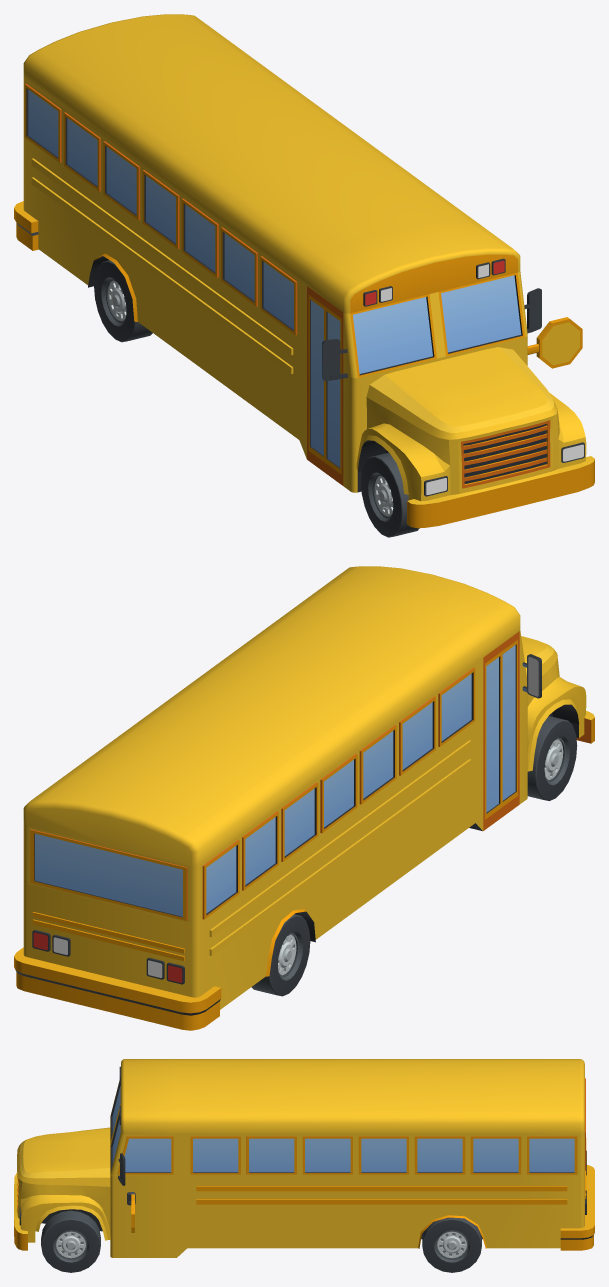
The model's file is America_Bus.fbx.
3 views of the same model, one above another, from view 1: azimuth 30°, elevation 25°; view 2: azimuth 150°, elevation 25°; view 3: azimuth 270°, elevation 25° (orthographic). The views are drawn at different scales.
Visible parts, largest first — view 1: America_Bus_Body, America_Bus_Wheel1, America_Bus_Wheel; view 2: America_Bus_Body, America_Bus_Wheel1, America_Bus_Wheel; view 3: America_Bus_Body, America_Bus_Wheel1, America_Bus_Wheel.
Boxes of the visible parts, <box> form: America_Bus_Body: <box>14,14,594,528</box>; America_Bus_Wheel1: <box>361,452,419,537</box>; America_Bus_Wheel: <box>94,260,152,342</box>; America_Bus_Body: <box>14,566,594,1030</box>; America_Bus_Wheel1: <box>527,716,577,800</box>; America_Bus_Wheel: <box>251,914,310,996</box>; America_Bus_Body: <box>14,1059,594,1257</box>; America_Bus_Wheel1: <box>41,1210,100,1272</box>; America_Bus_Wheel: <box>422,1217,481,1272</box>.
Bounding box in the file's own units: 0.8035 × 0.6643 × 2.13.
